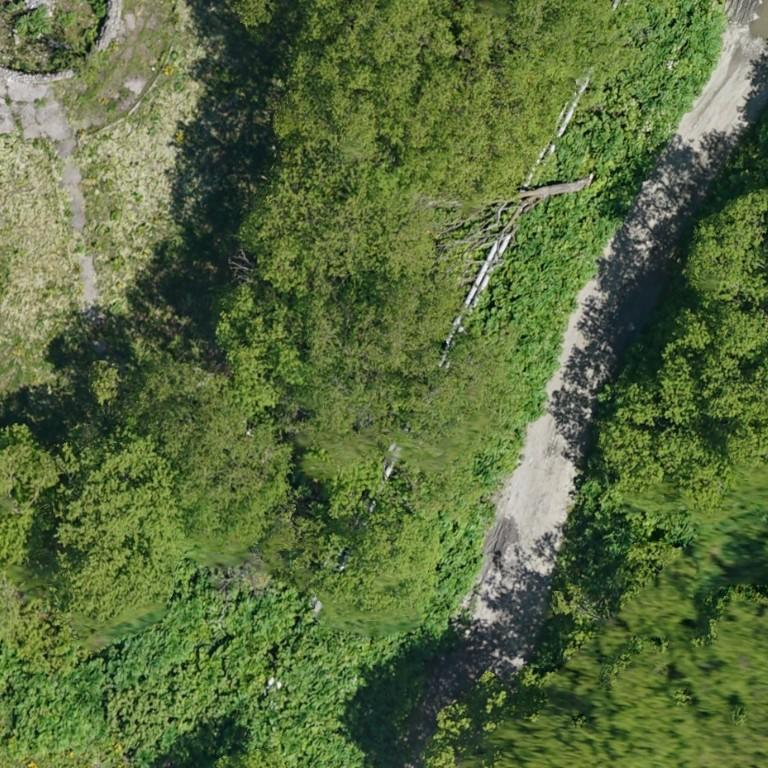hogweed: (7, 561, 434, 767), (468, 176, 642, 409), (555, 0, 723, 183), (430, 507, 493, 632), (474, 438, 517, 481), (14, 7, 53, 33)
